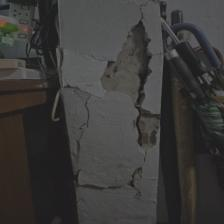High: (59, 3, 166, 224)
